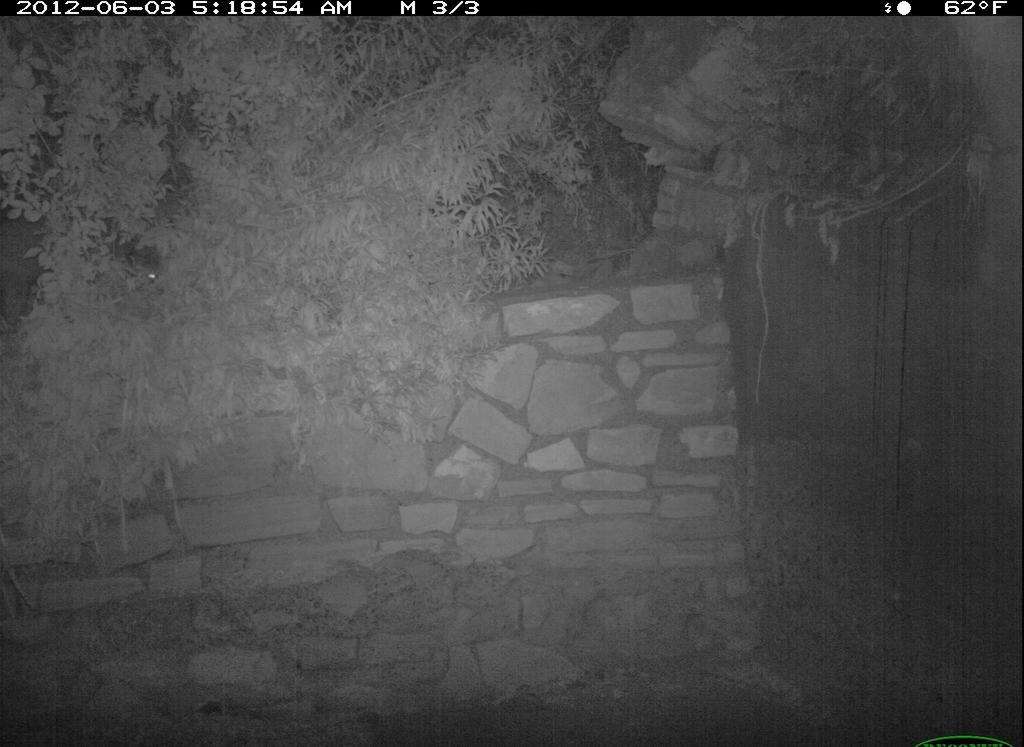raccoon: (121, 148, 207, 294), (3, 195, 74, 331)
